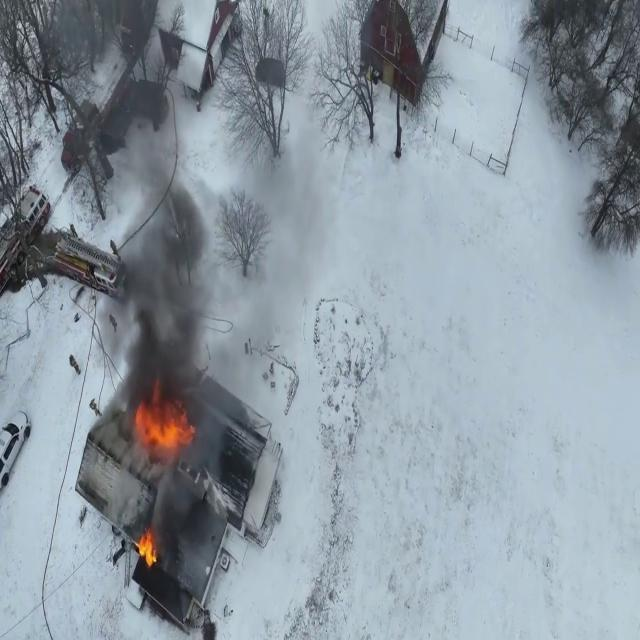Fire: (131, 392, 197, 460), (134, 522, 158, 570)
Smoke: (212, 86, 352, 395), (105, 113, 221, 390)
